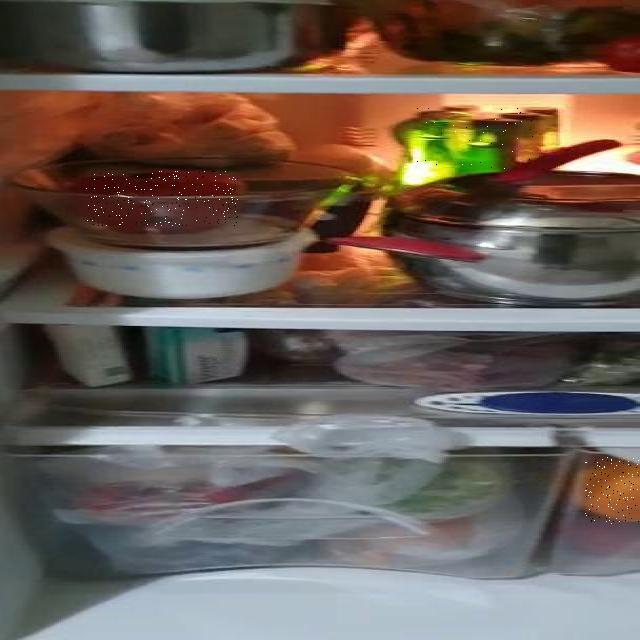mineral water: (406, 104, 540, 169)
orange: (585, 457, 639, 524)
tomato: (86, 171, 238, 226)
